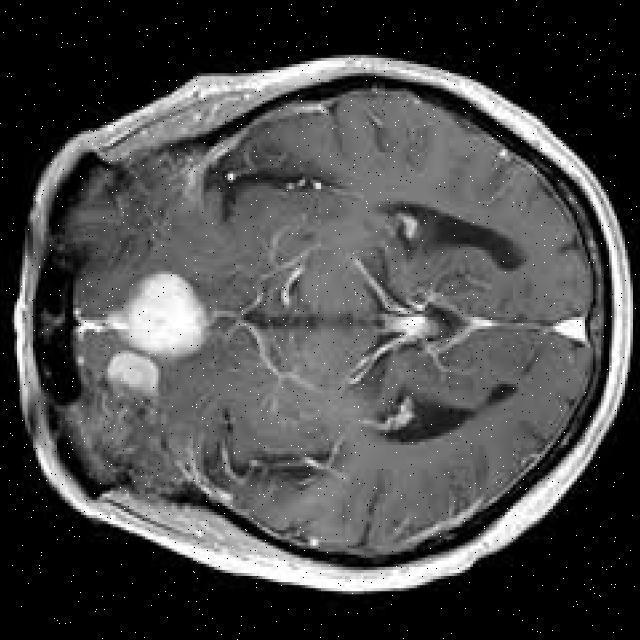Meningioma: (108, 272, 209, 356), (108, 351, 158, 396)
